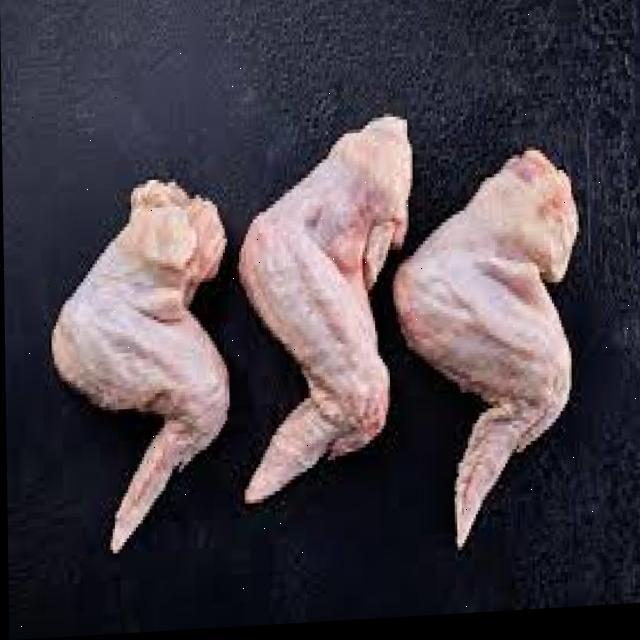wing: (48, 160, 236, 573), (394, 150, 590, 541), (236, 116, 412, 536)
